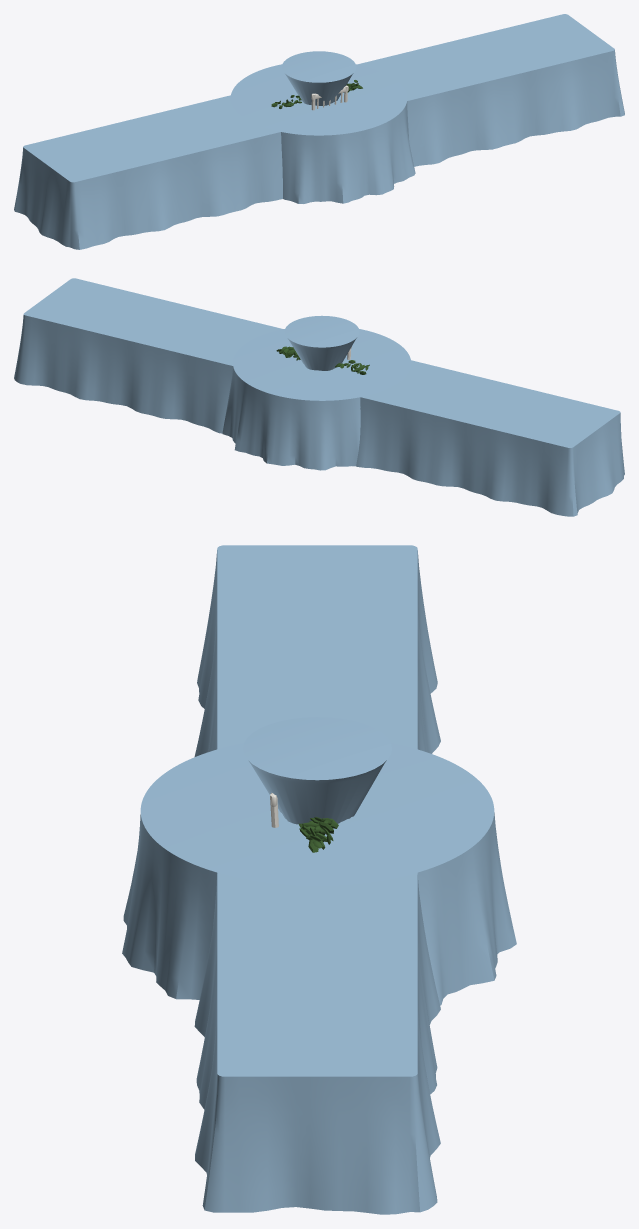
File: props.glb
The picture shows the model from 3 angles, top to bottom: view 1: azimuth 30°, elevation 25°; view 2: azimuth 150°, elevation 25°; view 3: azimuth 270°, elevation 25°; orthographic projection. The views are drawn at different scales.
Parts seen in each view (by area): view 1: TableLong, TableRound, TableHigh; view 2: TableLong, TableRound, TableHigh, Garland; view 3: TableLong, TableRound, TableHigh, Garland.
Boxes of the visible parts, x1,y1,x2,y2 form: TableLong: [14, 14, 624, 249]; TableRound: [230, 64, 415, 203]; TableHigh: [281, 51, 356, 105]; TableLong: [14, 278, 624, 516]; TableRound: [222, 329, 411, 470]; TableHigh: [284, 315, 359, 370]; Garland: [276, 346, 369, 374]; TableLong: [194, 545, 440, 1214]; TableRound: [122, 743, 516, 1005]; TableHigh: [243, 717, 391, 824]; Garland: [299, 817, 338, 852].
Size of the model in its own units: 6.63 by 1.11 by 2.01.
